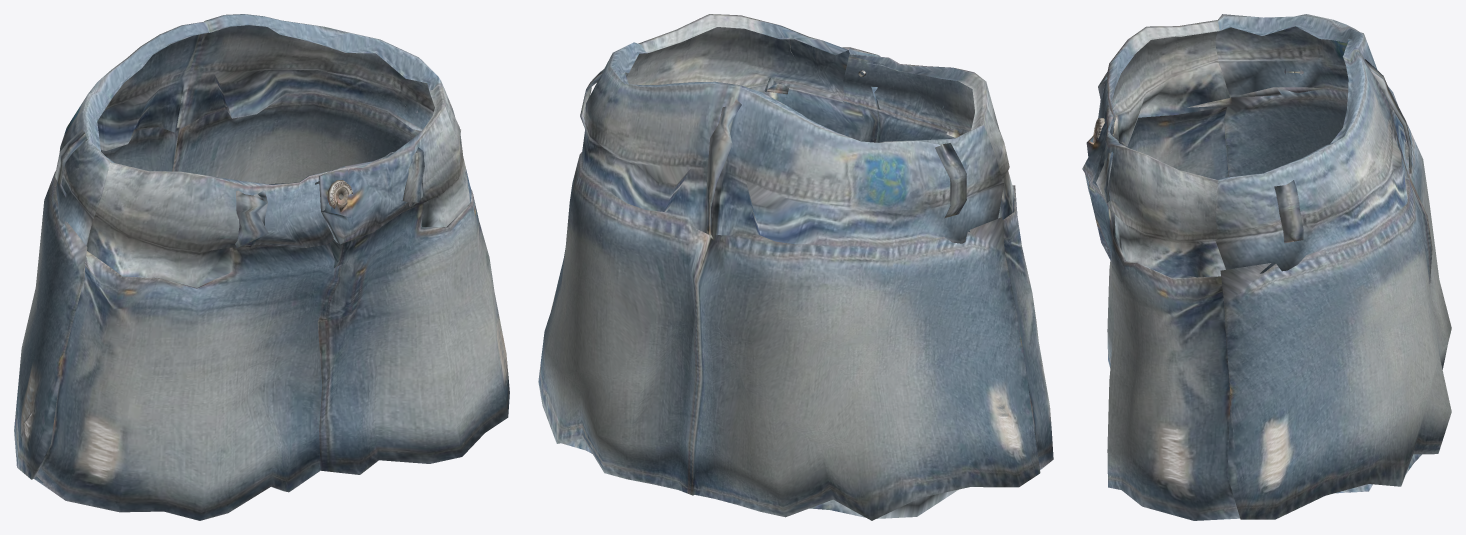
The model's file is punkduck-jeans-skirt.glb.
3 views of the same model, side by side, from view 1: azimuth 30°, elevation 25°; view 2: azimuth 150°, elevation 25°; view 3: azimuth 270°, elevation 25° (orthographic). The views are drawn at different scales.
Visible parts, largest first — view 1: Human.punkduck_jeans_skirt; view 2: Human.punkduck_jeans_skirt; view 3: Human.punkduck_jeans_skirt.
Boxes of the visible parts, x1,y1,x2,y2 form: Human.punkduck_jeans_skirt: (14, 14, 509, 520); Human.punkduck_jeans_skirt: (538, 14, 1053, 520); Human.punkduck_jeans_skirt: (1082, 14, 1451, 520).
Size of the model in its own units: 0.4251 by 0.3291 by 0.2943.
Materials: 1 (1 with a texture image).
